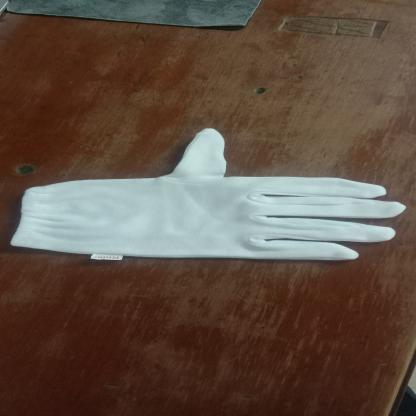gloved_hand: (6, 126, 405, 265)
